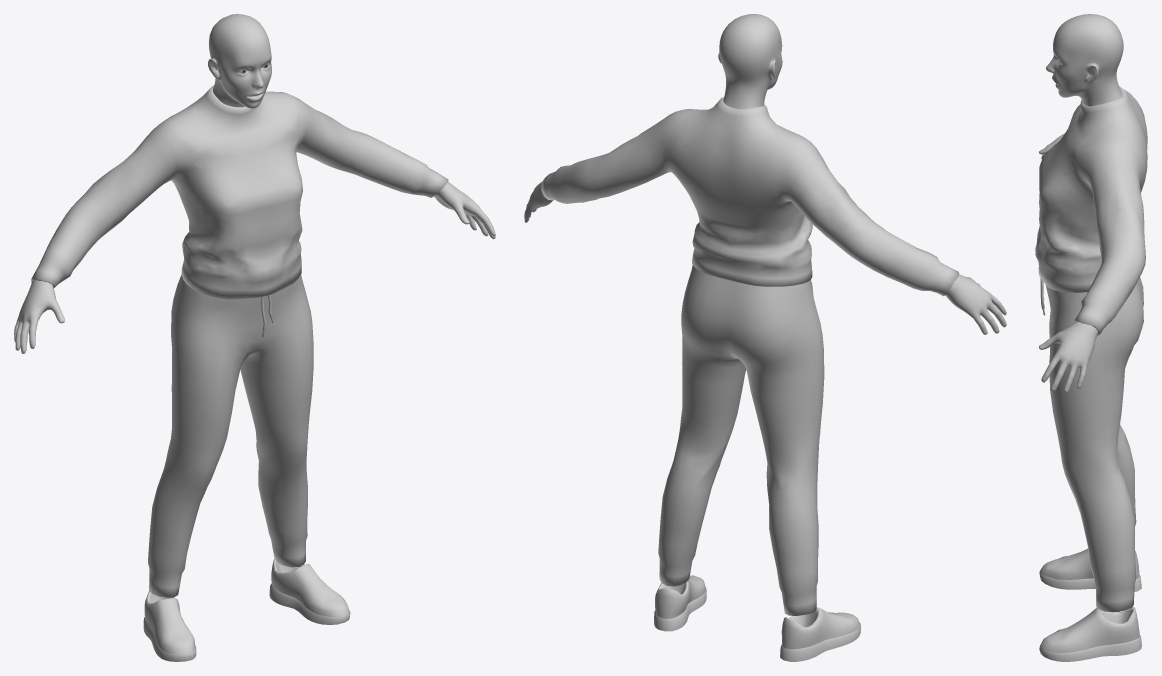
Rendered from MESH_c_f_sivil01_static.fbx.
3 views of the same model, side by side, from view 1: azimuth 30°, elevation 25°; view 2: azimuth 150°, elevation 25°; view 3: azimuth 270°, elevation 25° (orthographic).
Parts seen in each view (by area): view 1: F_Outfit, F_Shoes, F_Head.002, F_hand_low.001; view 2: F_Outfit, F_Shoes, F_Head.002, F_hand_low.001; view 3: F_Outfit, F_Shoes, F_Head.002, F_hand_low.001.
Part boxes in pixels (x1=…): F_Outfit: x1=31, y1=85, x2=448, y2=597; F_Shoes: x1=143, y1=559, x2=350, y2=661; F_Head.002: x1=208, y1=14, x2=271, y2=108; F_hand_low.001: x1=14, y1=181, x2=495, y2=353; F_Outfit: x1=541, y1=97, x2=959, y2=615; F_Shoes: x1=654, y1=575, x2=860, y2=661; F_Head.002: x1=718, y1=14, x2=782, y2=108; F_hand_low.001: x1=524, y1=182, x2=1006, y2=334; F_Outfit: x1=1035, y1=86, x2=1147, y2=612; F_Shoes: x1=1039, y1=548, x2=1141, y2=661; F_Head.002: x1=1046, y1=14, x2=1123, y2=106; F_hand_low.001: x1=1039, y1=133, x2=1098, y2=393.
Bounding box in the file's own units: 142 × 175 × 29.59.
